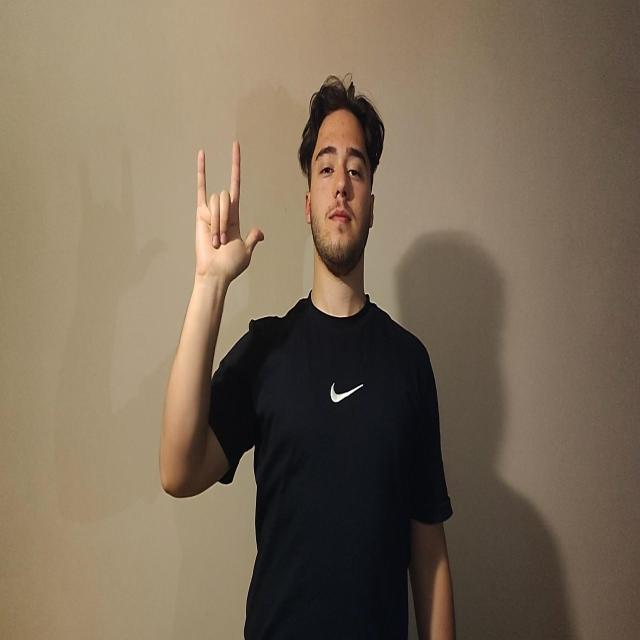iloveyou: (194, 138, 264, 286)
